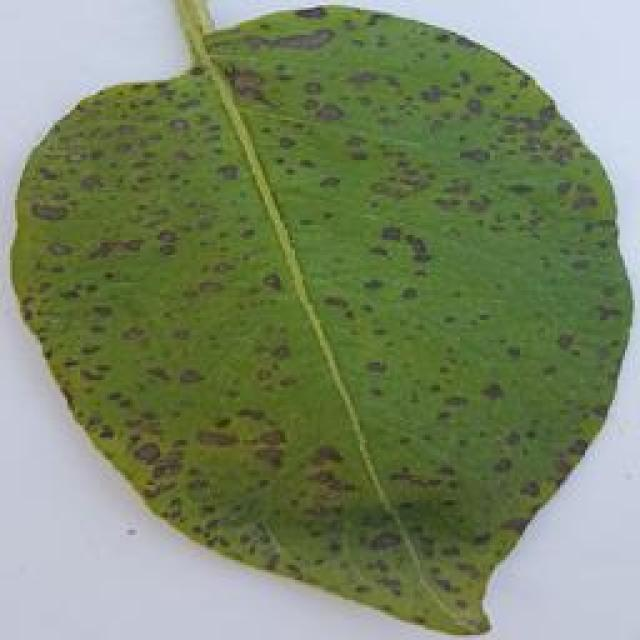Potato_Early_Blight: (6, 11, 634, 634)
